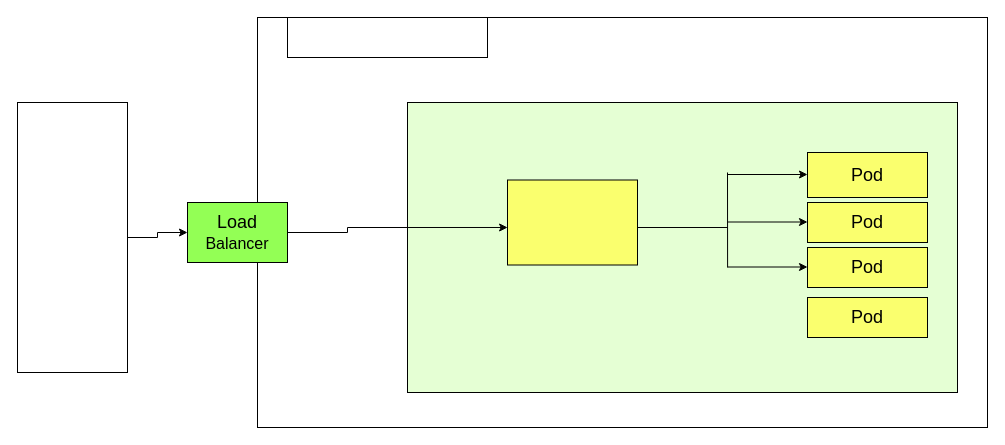
Some shapes in this 1005 by 445 pixel diagram are drawn without their labels. Each missing label, with the box of its shape:
Cloud Provider AWS/GCP: (286, 16, 488, 58)
Ingress Controller: (506, 179, 638, 265)
Outside World: (16, 102, 128, 372)
